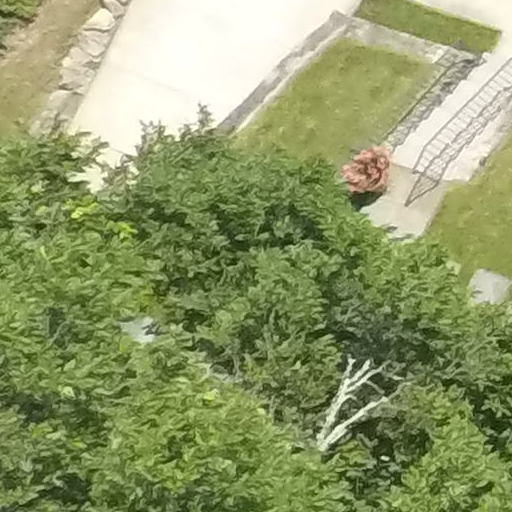pot: (329, 135, 401, 203)
